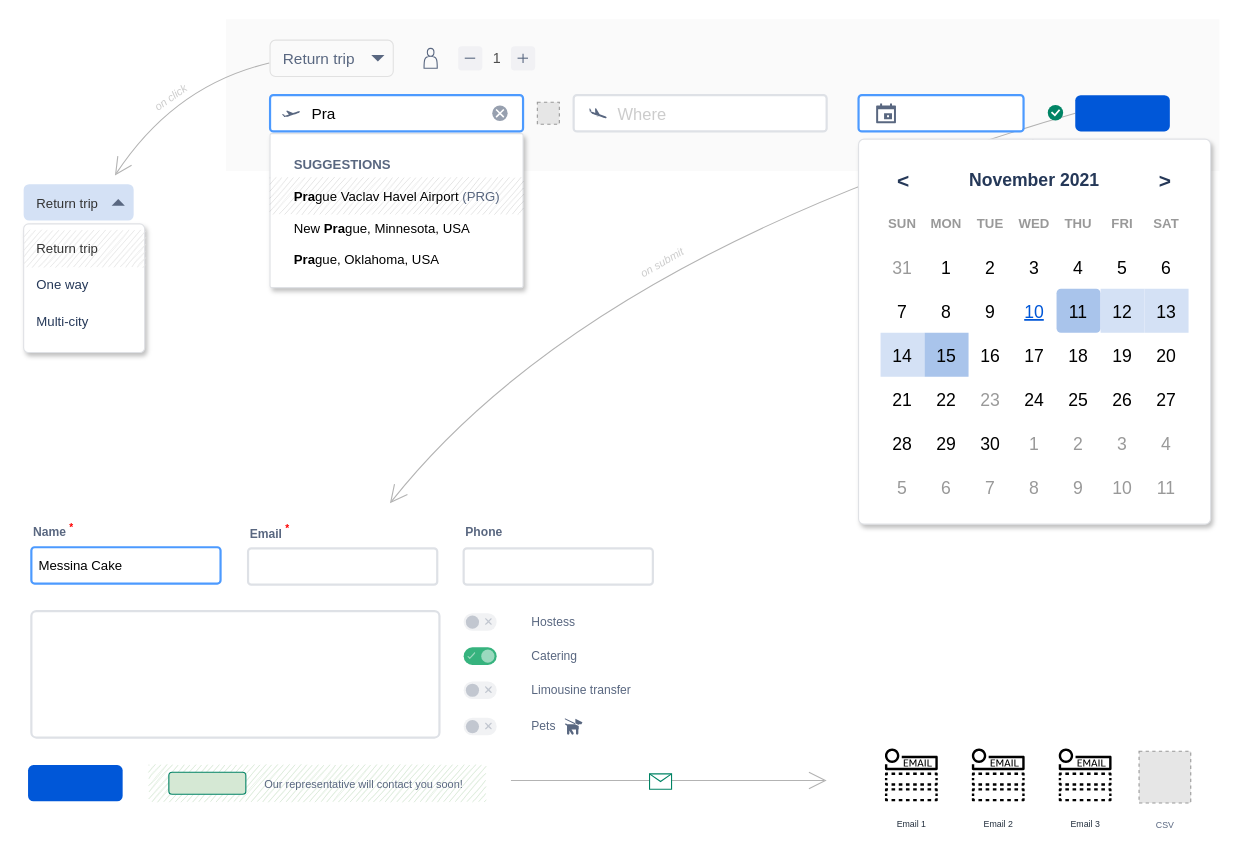
Some shapes in this 1239 by 854 pixel diagram are drawn without their labels. Grey dashed boxes stand in for pictures. Each missing label, with the centre of its shape:
"Continue" goes at (x=1122, y=113).
"Enter your additional requests" goes at (x=235, y=673).
"Send" goes at (x=75, y=783).
"SUCCESS" goes at (x=207, y=782).
"Today" goes at (x=940, y=113).
